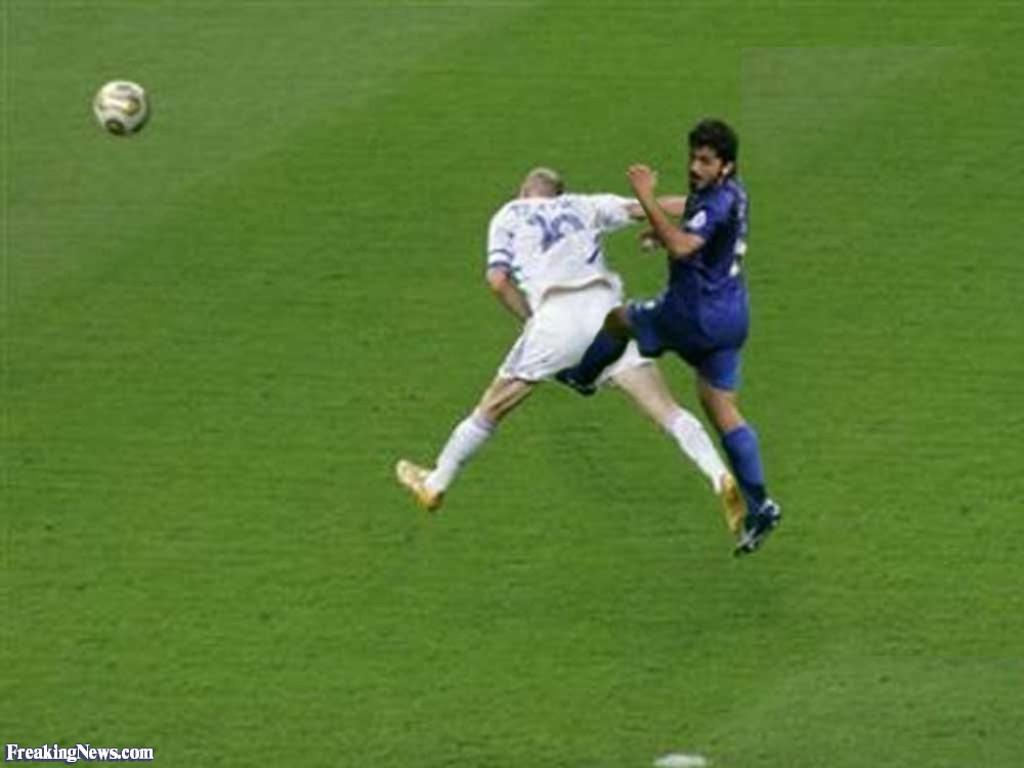face: (688, 145, 723, 193)
